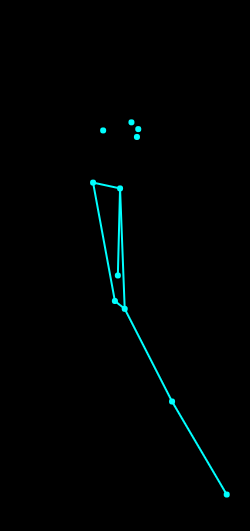warrior_1: (64, 105, 232, 501)
